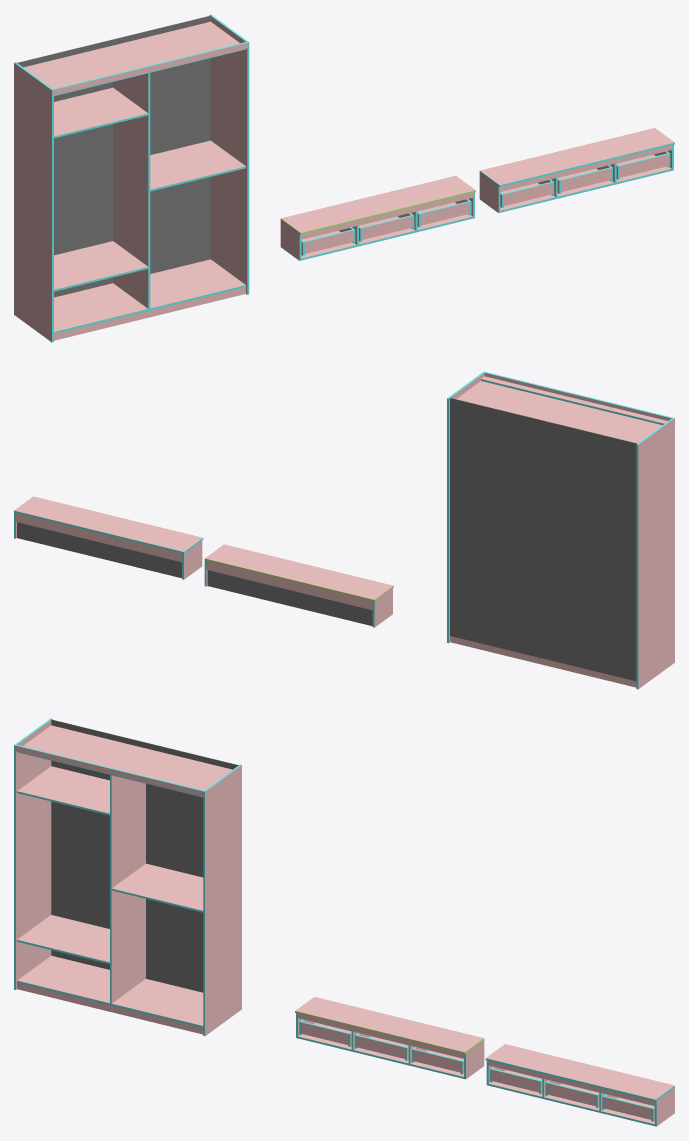
File: ketivi.glb
The picture shows the model from 3 angles, top to bottom: view 1: azimuth 30°, elevation 25°; view 2: azimuth 150°, elevation 25°; view 3: azimuth 330°, elevation 25°; orthographic projection. The views are drawn at different scales.
Visible parts, largest first — view 1: [216]Hậu, [62]Hồi trái, [63]Hồi phải, [66]Hậu, [340]Thanh chia đứng, [64]Tấm đáy, [105]Tấm nóc, [7]Tấm nóc, [724]Tấm nóc, [371]Thanh chia ngang, [372]Thanh chia ngang, [373]Thanh chia ngang (+14 smaller); view 2: [216]Hậu, [66]Hậu, [62]Hồi trái, [105]Tấm nóc, [7]Tấm nóc, [724]Tấm nóc, [12]Hậu, [705]Hậu, [1243]Giằng trên, [728]Giằng trên, [323]Len chân, [61]Tấm nóc (+4 smaller); view 3: [216]Hậu, [63]Hồi phải, [66]Hậu, [62]Hồi trái, [340]Thanh chia đứng, [64]Tấm đáy, [105]Tấm nóc, [724]Tấm nóc, [7]Tấm nóc, [372]Thanh chia ngang, [373]Thanh chia ngang, [371]Thanh chia ngang (+8 smaller).
Boxes of the visible parts, left/top/right/bottom form: [216]Hậu: left=114, top=15, right=211, bottom=273; [62]Hồi trái: left=14, top=62, right=53, bottom=342; [63]Hồi phải: left=209, top=14, right=249, bottom=294; [66]Hậu: left=16, top=39, right=113, bottom=297; [340]Thanh chia đứng: left=113, top=73, right=150, bottom=308; [64]Tấm đáy: left=54, top=259, right=245, bottom=333; [105]Tấm nóc: left=23, top=21, right=245, bottom=96; [7]Tấm nóc: left=280, top=175, right=475, bottom=234; [724]Tấm nóc: left=479, top=128, right=674, bottom=187; [371]Thanh chia ngang: left=150, top=140, right=245, bottom=191; [372]Thanh chia ngang: left=54, top=241, right=148, bottom=291; [373]Thanh chia ngang: left=54, top=87, right=148, bottom=138; [216]Hậu: left=449, top=397, right=543, bottom=658; [66]Hậu: left=543, top=420, right=637, bottom=681; [62]Hồi trái: left=636, top=417, right=674, bottom=689; [105]Tấm nóc: left=456, top=381, right=661, bottom=443; [7]Tấm nóc: left=204, top=544, right=393, bottom=601; [724]Tấm nóc: left=14, top=496, right=203, bottom=553; [12]Hậu: left=207, top=570, right=372, bottom=626; [705]Hậu: left=17, top=522, right=181, bottom=578; [1243]Giằng trên: left=206, top=561, right=372, bottom=610; [728]Giằng trên: left=16, top=513, right=181, bottom=562; [323]Len chân: left=450, top=636, right=636, bottom=687; [61]Tấm nóc: left=481, top=376, right=667, bottom=425; [216]Hậu: left=145, top=742, right=239, bottom=992; [63]Hồi phải: left=203, top=764, right=241, bottom=1036; [66]Hậu: left=50, top=719, right=144, bottom=969; [62]Hồi trái: left=14, top=718, right=52, bottom=989; [340]Thanh chia đứng: left=110, top=775, right=145, bottom=1003; [64]Tấm đáy: left=17, top=955, right=203, bottom=1027; [105]Tấm nóc: left=17, top=725, right=232, bottom=797; [724]Tấm nóc: left=485, top=1044, right=674, bottom=1101; [7]Tấm nóc: left=295, top=997, right=484, bottom=1054; [372]Thanh chia ngang: left=17, top=915, right=109, bottom=964; [373]Thanh chia ngang: left=17, top=766, right=109, bottom=815; [371]Thanh chia ngang: left=111, top=863, right=203, bottom=912.
Bounding box in the file's own units: 5.86 × 2.21 × 0.6431.
